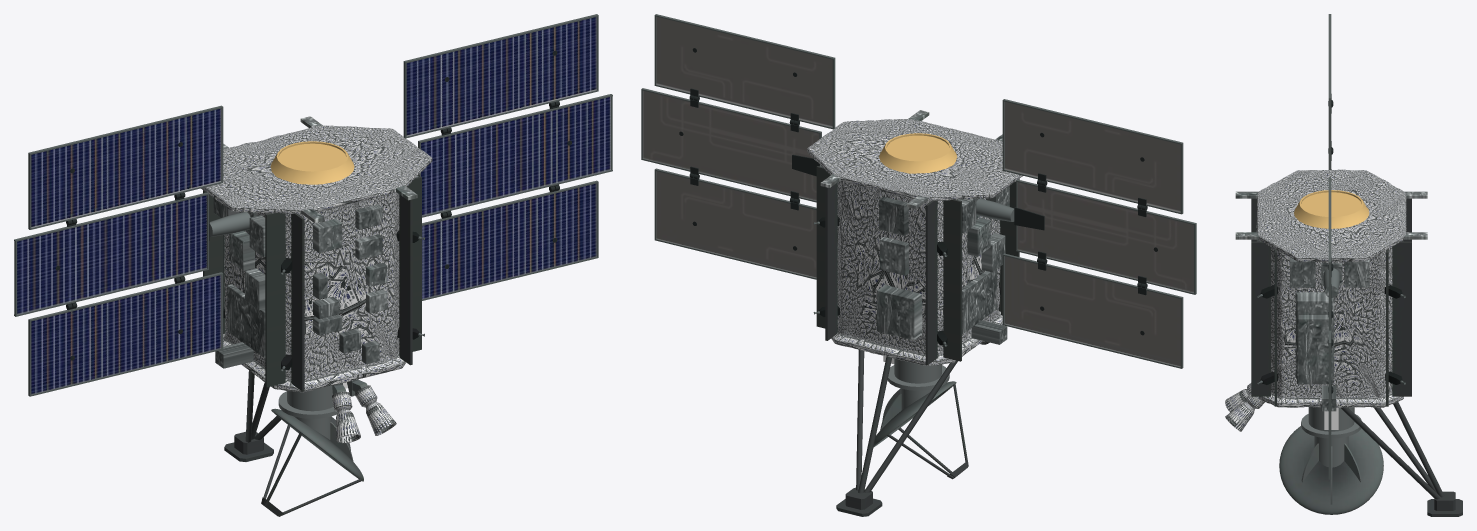
Rendered from quikscat.glb.
3 views of the same model, side by side, from view 1: azimuth 30°, elevation 25°; view 2: azimuth 150°, elevation 25°; view 3: azimuth 270°, elevation 25° (orthographic). The views are drawn at different scales.
Parts seen in each view (by area): view 1: antenna, main, quikscat; view 2: antenna, main, quikscat; view 3: antenna, main, quikscat.
Part boxes in pixels (x1,y1,x2,y2): antenna: (14,14,612,516); main: (201,125,432,443); quikscat: (270,141,354,184); antenna: (641,14,1196,516); main: (807,119,1022,365); quikscat: (879,133,957,173); antenna: (1235,14,1462,516); main: (1225,169,1406,431); quikscat: (1294,190,1369,228).
Bounding box in the file's own units: 7.51 × 5.07 × 2.89.
Materials: 2 (1 with a texture image).
